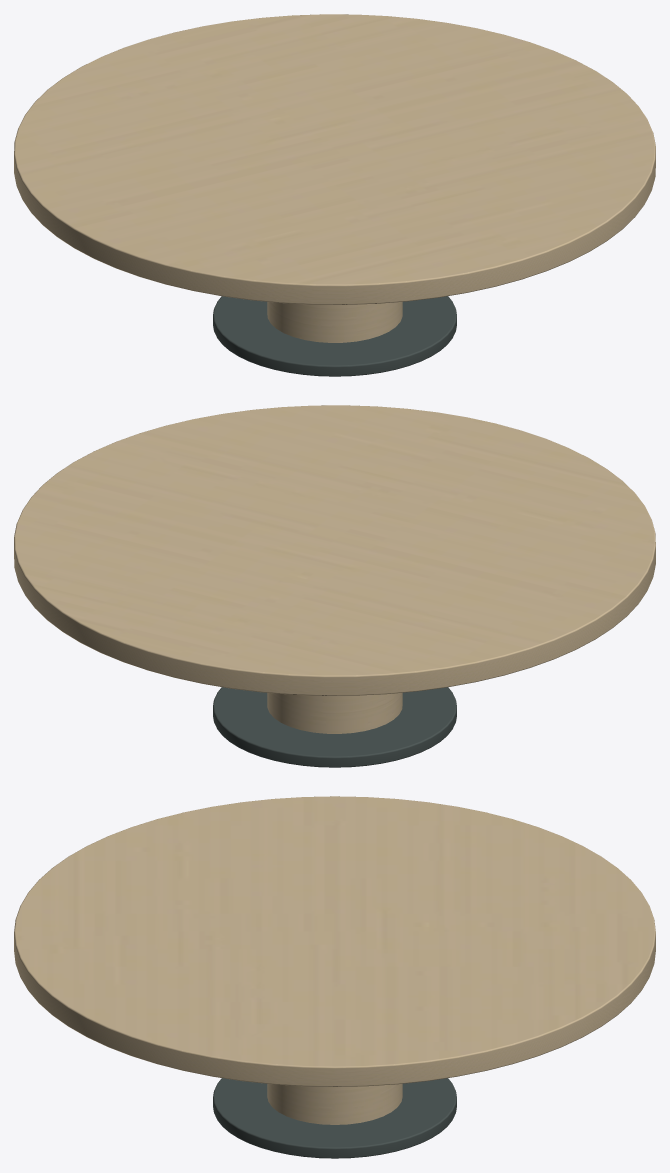
The model's file is round-table-v1.glb.
3 renders of one model, top to bottom at view 1: azimuth 30°, elevation 25°; view 2: azimuth 150°, elevation 25°; view 3: azimuth 270°, elevation 25°, orthographic.
Visible parts, largest first — view 1: Round oak review top; view 2: Round oak review top; view 3: Round oak review top.
Part boxes in pixels (box(x1,y1,x2,y2)): Round oak review top: box(14, 14, 655, 376); Round oak review top: box(14, 405, 655, 767); Round oak review top: box(14, 796, 655, 1158).
Size of the model in its own units: 2.84 by 0.86 by 2.84.
2 materials, 1 textured.
